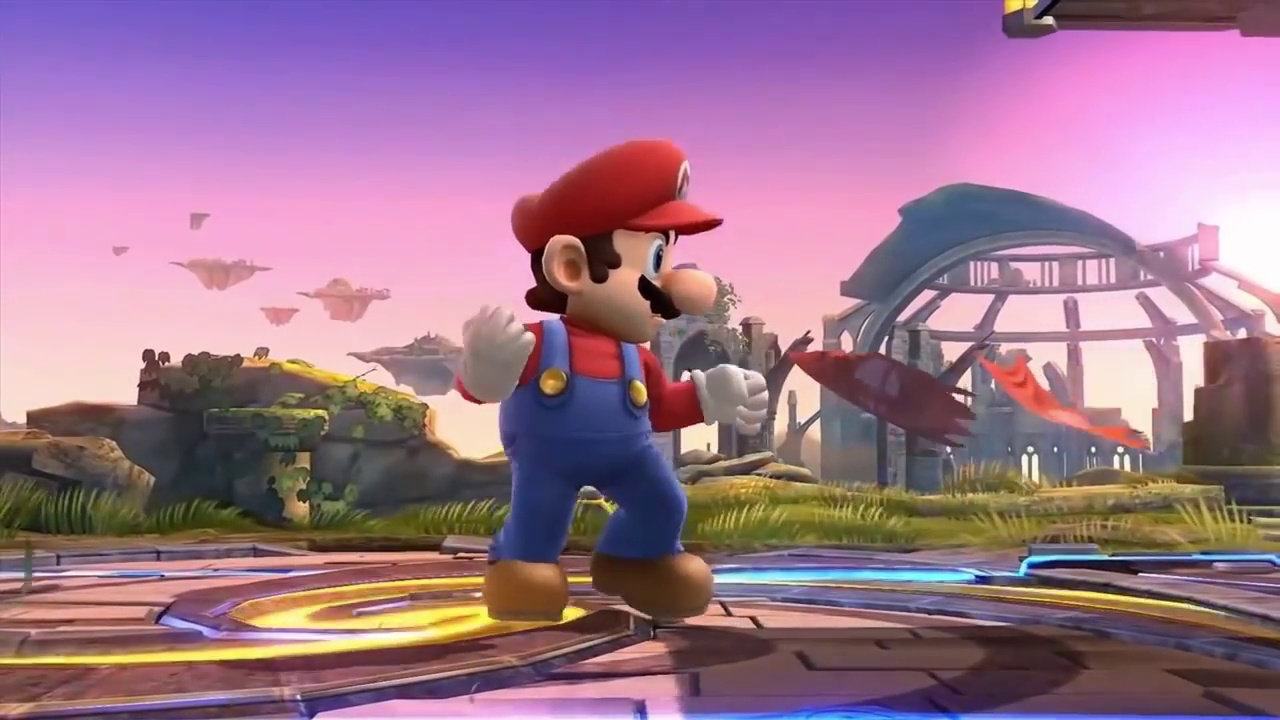Mario: (457, 139, 768, 622)
